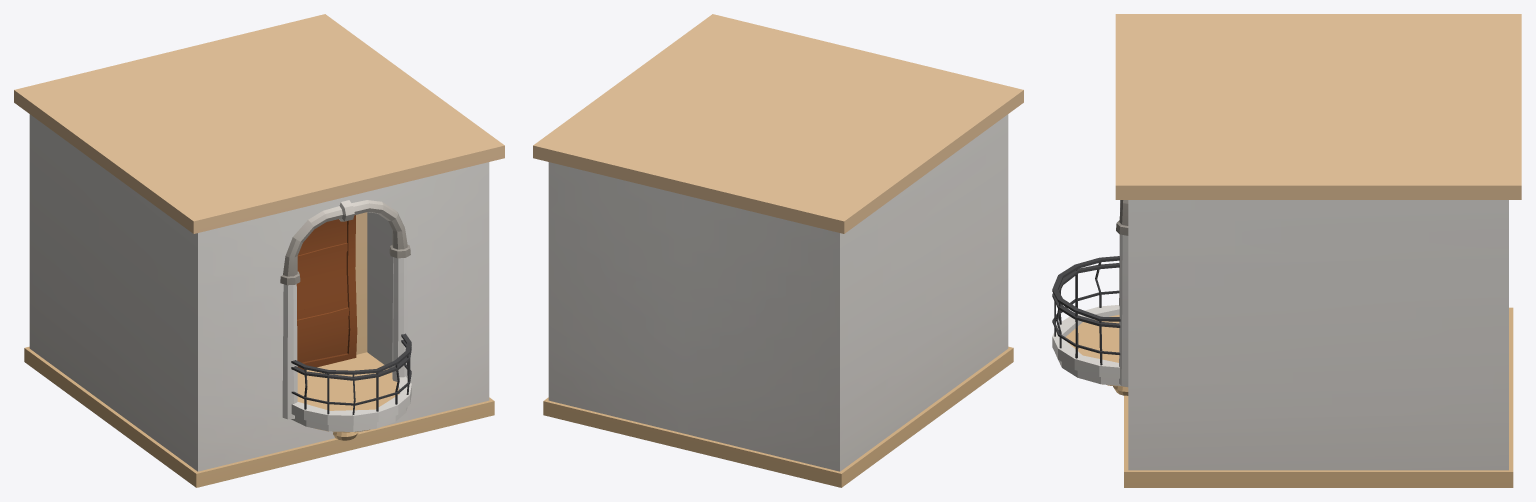
File: Room 02.fbx
3 renders of one model, left to right at view 1: azimuth 30°, elevation 25°; view 2: azimuth 150°, elevation 25°; view 3: azimuth 270°, elevation 25°, orthographic. The views are drawn at different scales.
Parts seen in each view (by area): view 1: Room 02 high, Room 02 low; view 2: Room 02 high; view 3: Room 02 high, Room 02 low.
Part boxes in pixels (<box>): Room 02 high: <box>14,14,504,487</box>; Room 02 low: <box>294,219,404,413</box>; Room 02 high: <box>533,14,1023,487</box>; Room 02 high: <box>1052,14,1521,487</box>; Room 02 low: <box>1053,306,1119,363</box>.
Size of the model in its own units: 4 by 3.33 by 4.63.
Materials: 1 (1 with a texture image).
